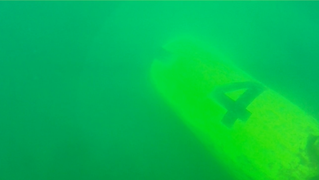4: (211, 80, 268, 129)
pipe: (149, 34, 319, 180)
